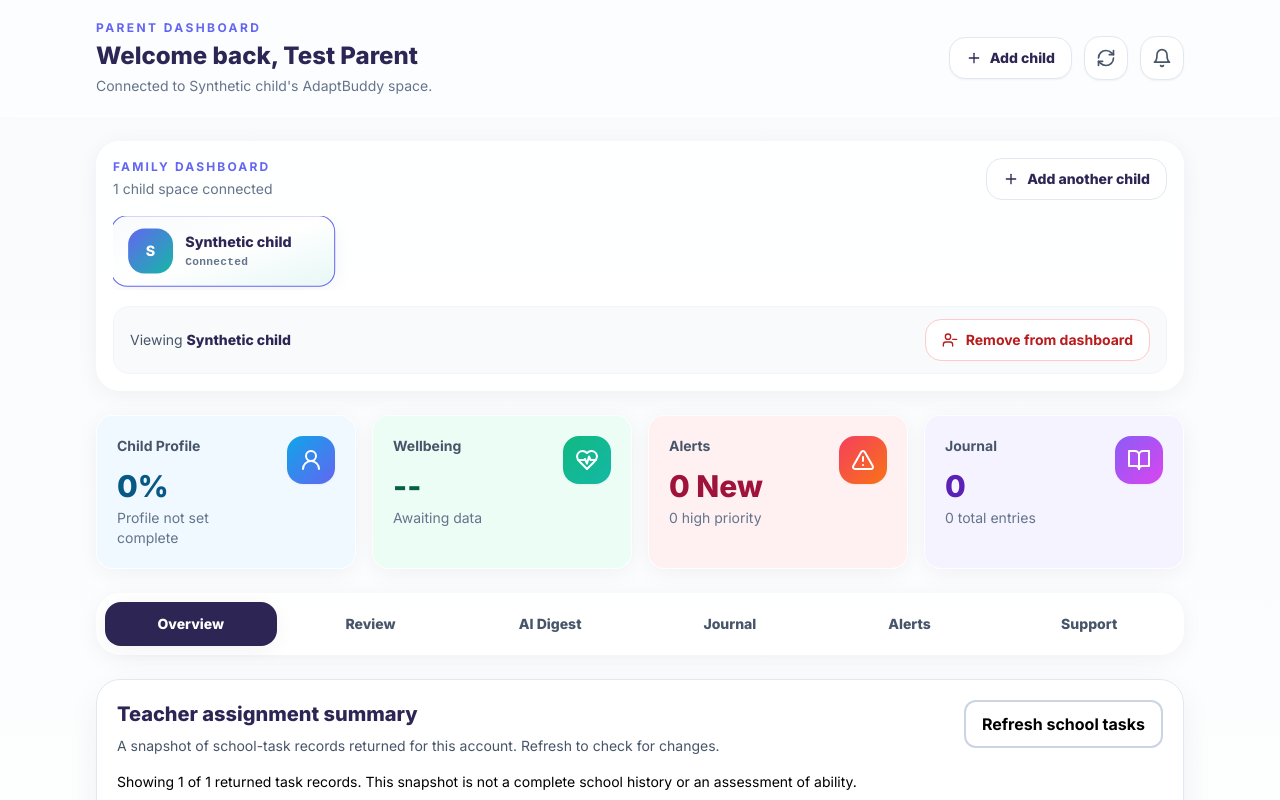
Test: a failed refresh does not restore earlier tasks
Click the button "Refresh school tasks": (1063, 724) [964,700,1163,748]
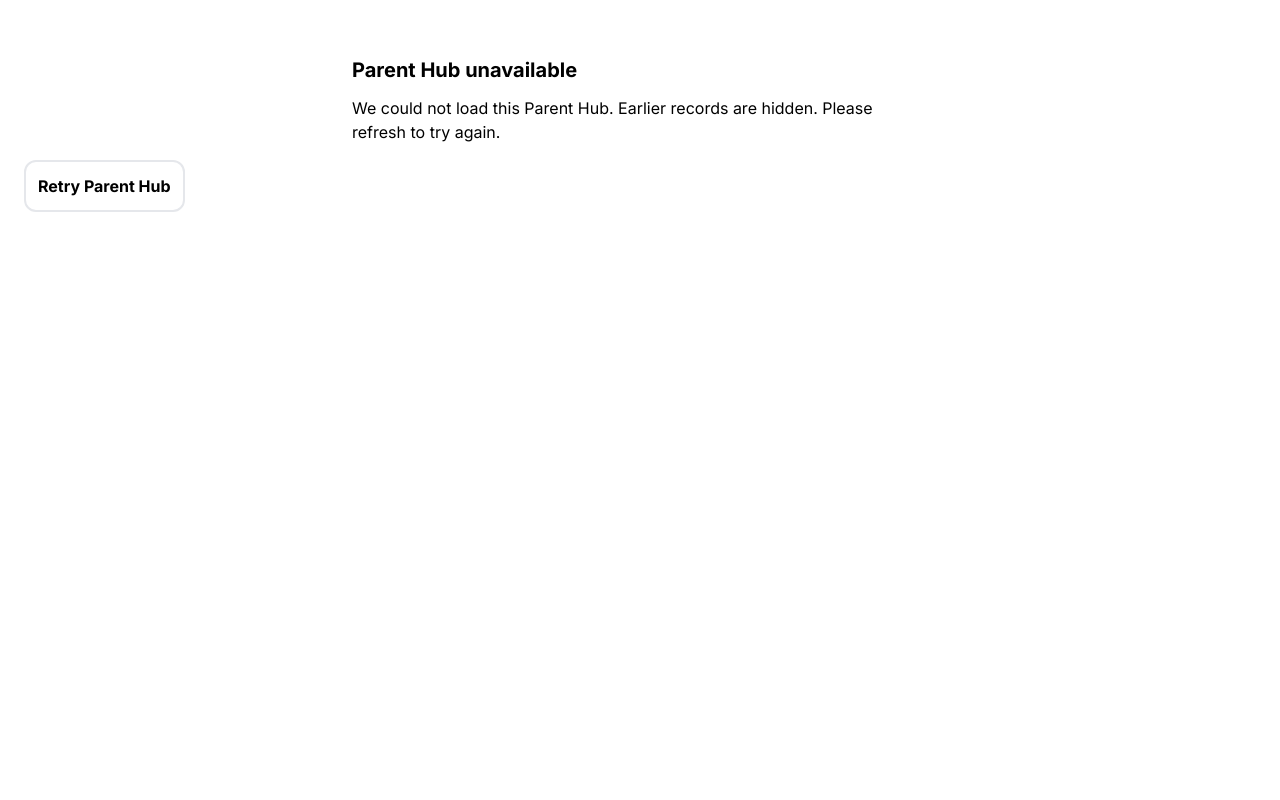
Expected: the heading "Parent Hub unavailable" is shown, [352,58,577,82]
